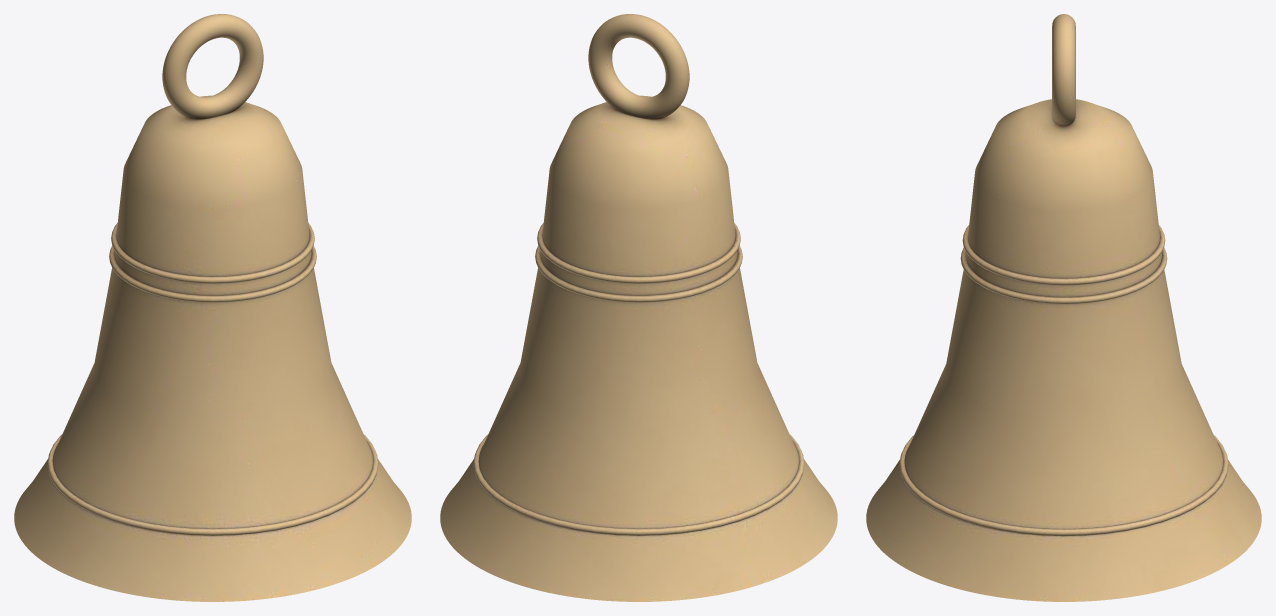
The model's file is bell.glb.
The picture shows the model from 3 angles, left to right: view 1: azimuth 30°, elevation 25°; view 2: azimuth 150°, elevation 25°; view 3: azimuth 270°, elevation 25°; orthographic projection.
Visible parts, largest first — view 1: bell_body; view 2: bell_body; view 3: bell_body.
Part boxes in pixels (left/top/right/bottom): bell_body: left=14, top=14, right=411, bottom=601; bell_body: left=440, top=14, right=837, bottom=601; bell_body: left=866, top=14, right=1261, bottom=601.
Size of the model in its own units: 0.4 by 0.557 by 0.4.
Materials: 1 (1 with a texture image).
